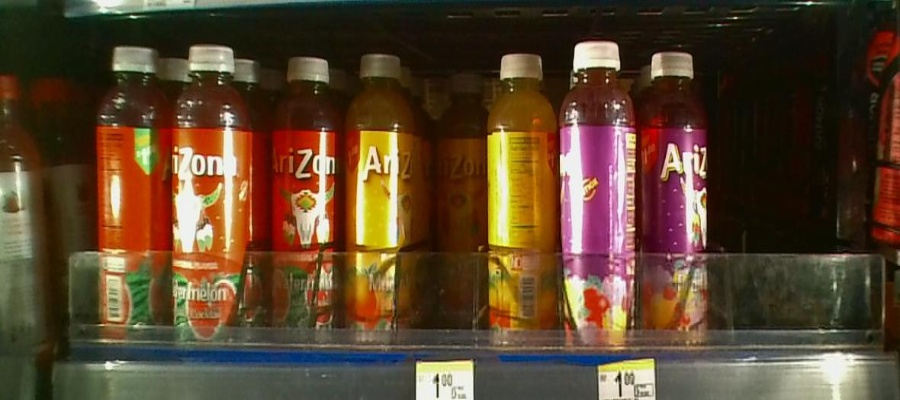bottle: (638, 34, 722, 353), (175, 33, 254, 348), (560, 37, 638, 354), (94, 36, 170, 350), (481, 46, 558, 354), (342, 33, 413, 344), (269, 39, 338, 339), (431, 54, 489, 326)
